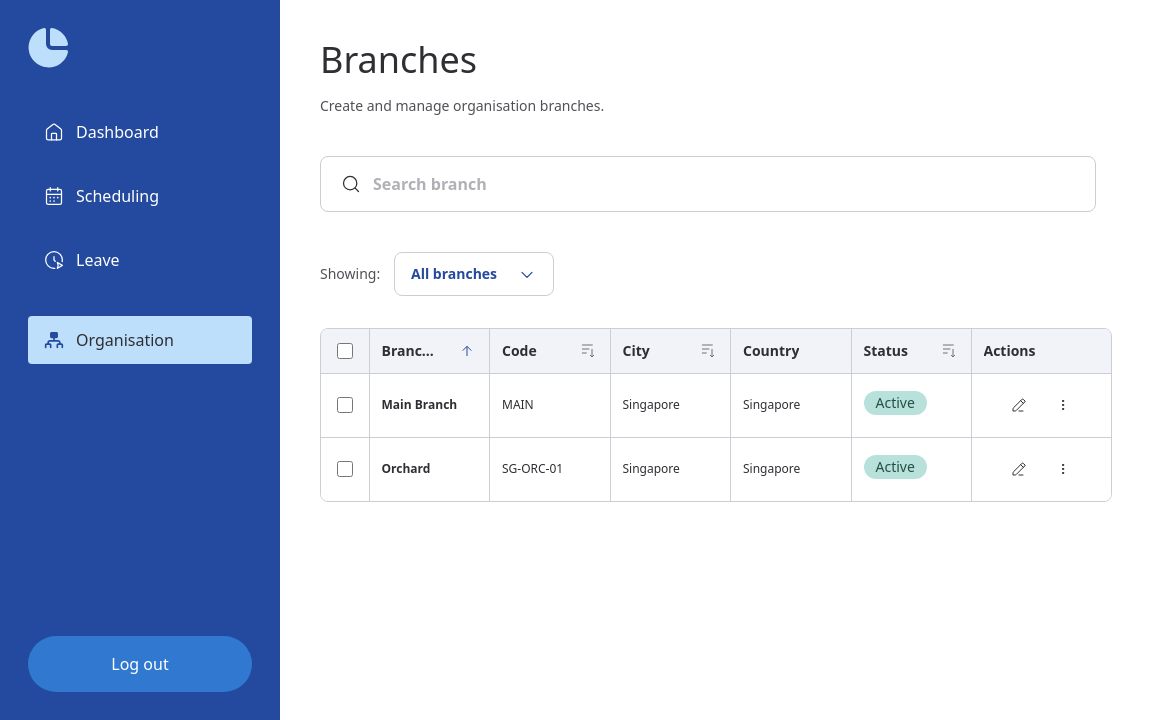
Branches › sorts codes on the server and searches loaded rows by code without another request
Check: the text "Orchard" is shown, box [369, 437, 490, 501]
Click the button named "Sort by Code": [588, 351] box [570, 333, 606, 369]
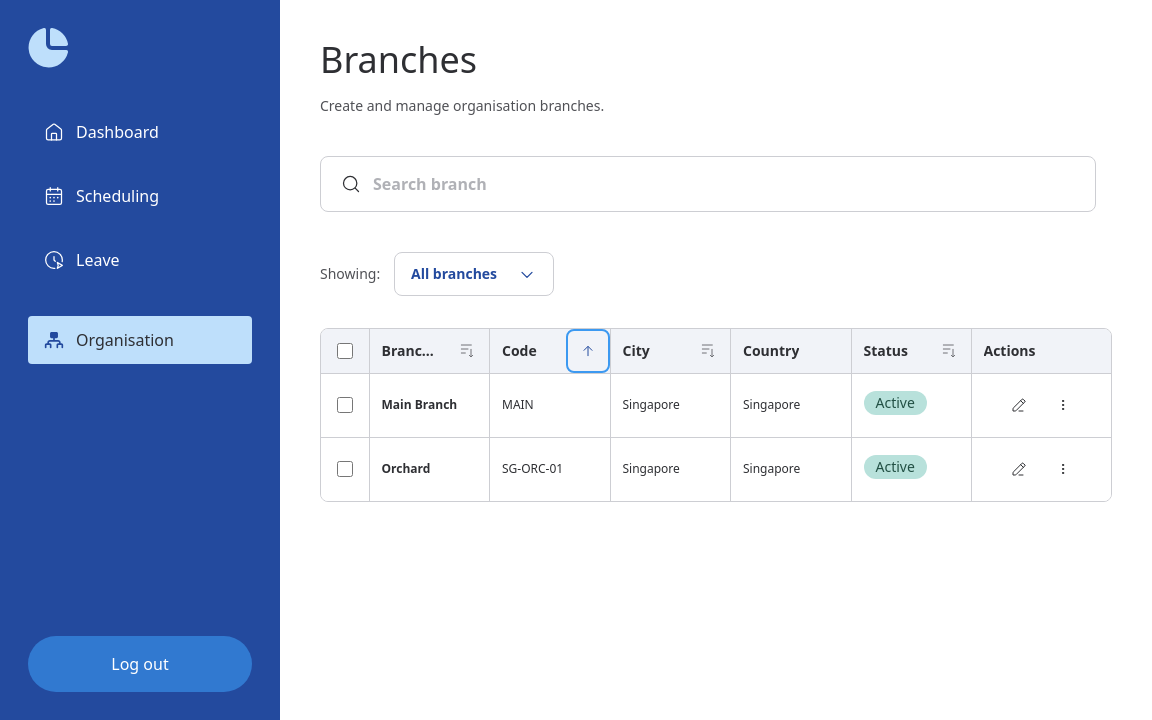
Click the button named "Sort by Code": [588, 351] box [570, 333, 606, 369]
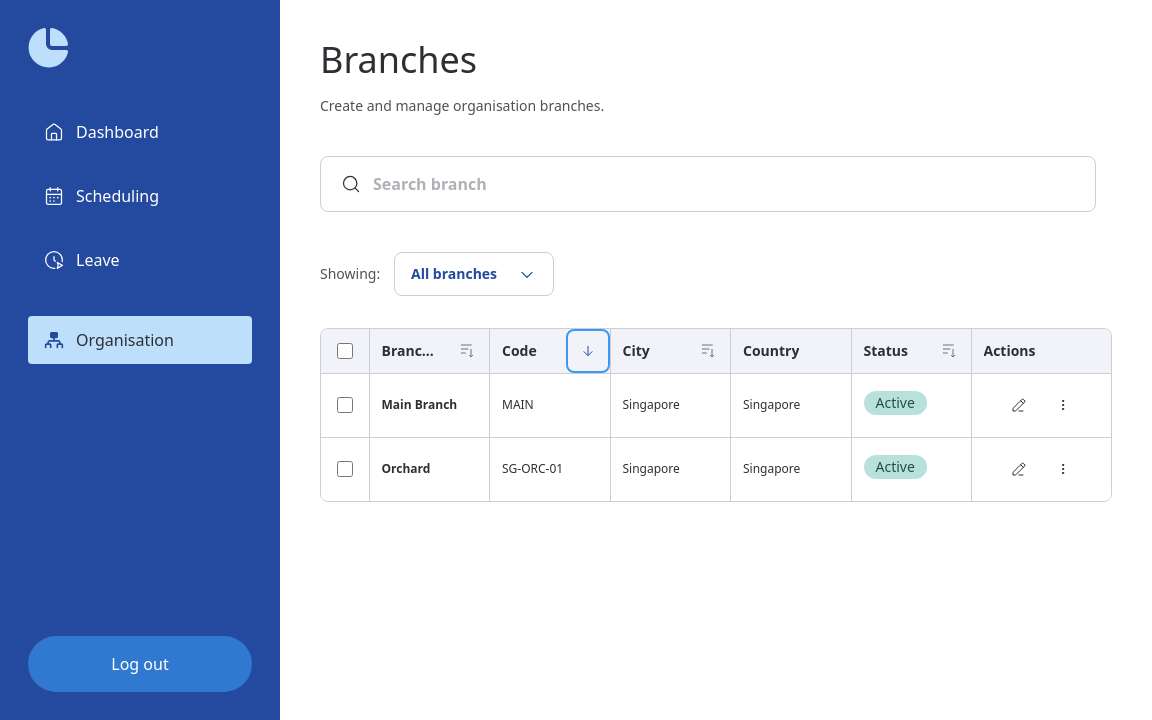
In the search field labelled "Search branch": [724, 184] box [373, 172, 1075, 196], type "  sg-orc "
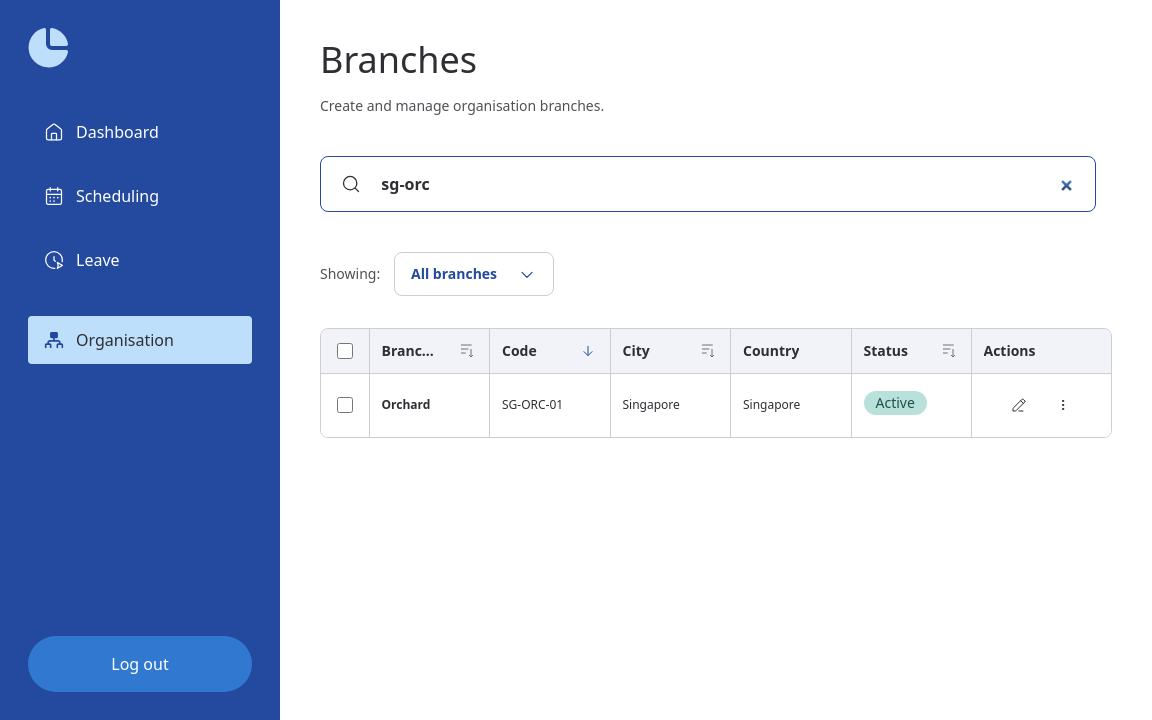
Check: the text "Orchard" is shown, box [369, 373, 490, 437]
Check: the text "Main Branch" is gone
